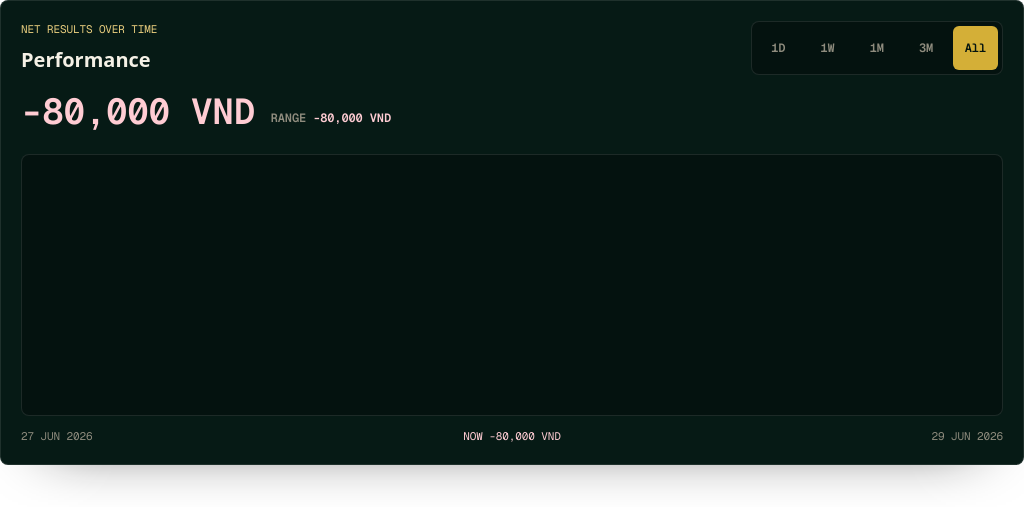
Test: PerformanceChart › filters performance to the latest day
What coordinates should you click on to do the following:
click the button "1D"
I would click on:
 (778, 48)
Its box is 756,26 -> 801,70.
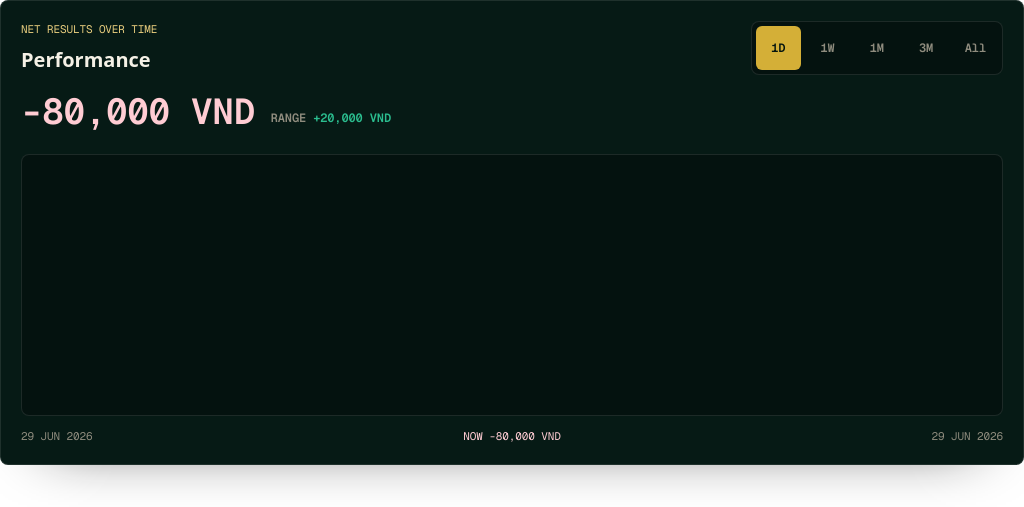
Expected: the picture named "over 1d" is shown, 21,154 -> 1003,416
Expected: the text "Range" shows "+20,000 VND", 313,110 -> 391,126
